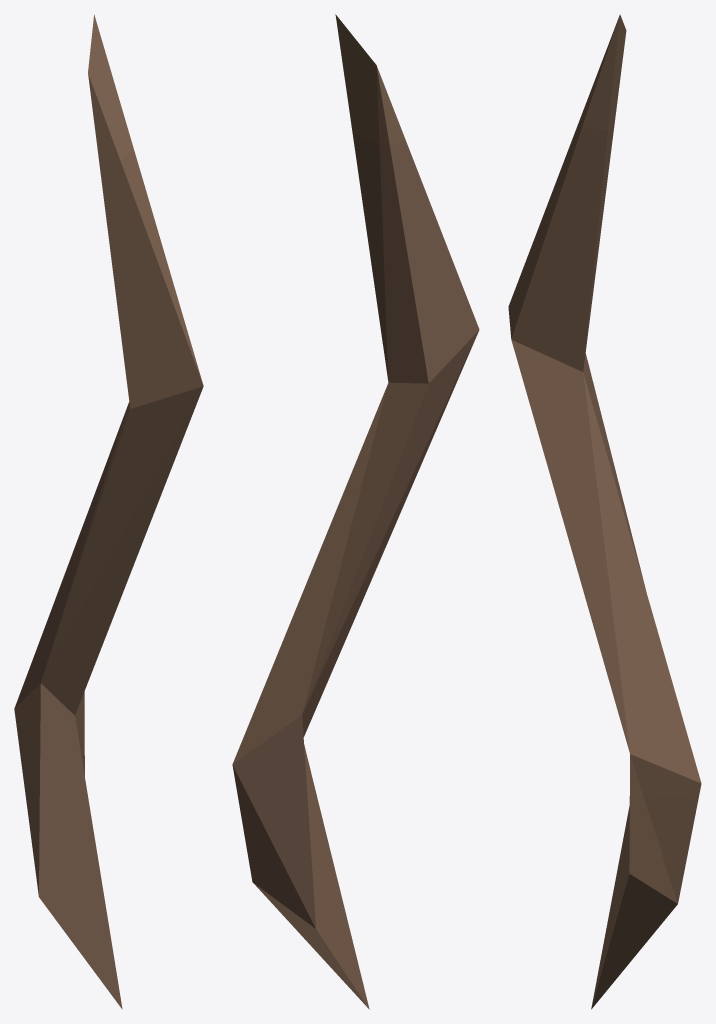
File: YN_Vines2.fbx
The picture shows the model from 3 angles, left to right: view 1: azimuth 90°, elevation 25°; view 2: azimuth 150°, elevation 25°; view 3: azimuth 270°, elevation 25°; orthographic projection.
Parts seen in each view (by area): view 1: YN_Vines2; view 2: YN_Vines2; view 3: YN_Vines2.
Boxes of the visible parts, x1=… form: YN_Vines2: x1=14, y1=14, x2=203, y2=1009; YN_Vines2: x1=232, y1=14, x2=479, y2=1009; YN_Vines2: x1=508, y1=14, x2=701, y2=1009.
Bounding box in the file's own units: 0.4588 × 2.76 × 0.4811.
